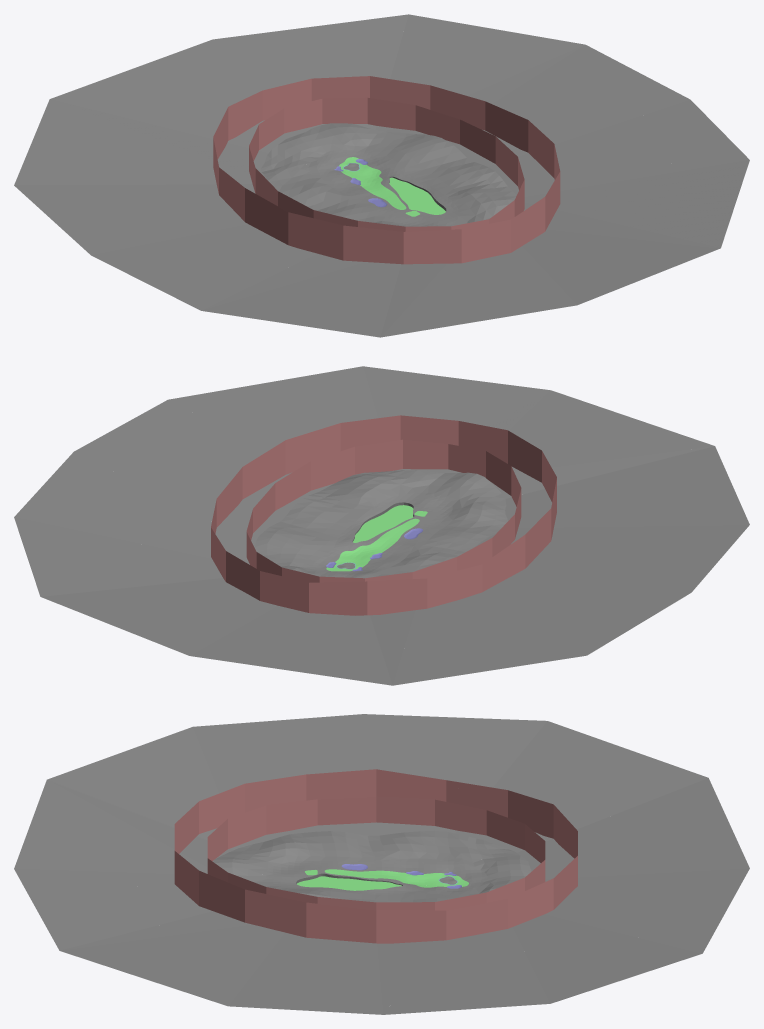
Rendered from glf_course_E3.glb.
The picture shows the model from 3 angles, top to bottom: view 1: azimuth 30°, elevation 25°; view 2: azimuth 150°, elevation 25°; view 3: azimuth 270°, elevation 25°; orthographic projection.
Parts seen in each view (by area): view 1: collision_0x0005, collision_0x0008, collision_0x0004, collision_0x0002, collision_0x0001, collision_0x0007; view 2: collision_0x0005, collision_0x0008, collision_0x0004, collision_0x0002, collision_0x0001, collision_0x0007; view 3: collision_0x0005, collision_0x0008, collision_0x0004, collision_0x0002, collision_0x0001, collision_0x0007.
Part boxes in pixels (x1,y1,x2,y2): collision_0x0005: [14, 14, 749, 337]; collision_0x0008: [213, 76, 560, 264]; collision_0x0004: [261, 123, 516, 226]; collision_0x0002: [316, 150, 458, 226]; collision_0x0001: [339, 157, 419, 216]; collision_0x0007: [389, 177, 445, 214]; collision_0x0005: [14, 366, 749, 685]; collision_0x0008: [211, 415, 556, 615]; collision_0x0004: [255, 470, 507, 578]; collision_0x0002: [312, 492, 452, 577]; collision_0x0001: [326, 511, 427, 571]; collision_0x0007: [353, 505, 413, 542]; collision_0x0005: [14, 714, 749, 1014]; collision_0x0008: [174, 769, 577, 943]; collision_0x0004: [213, 830, 531, 902]; collision_0x0002: [266, 858, 487, 894]; collision_0x0001: [305, 869, 468, 887]; collision_0x0007: [297, 876, 401, 890].
Bounding box in the file's own units: 11773 × 940 × 12168.
